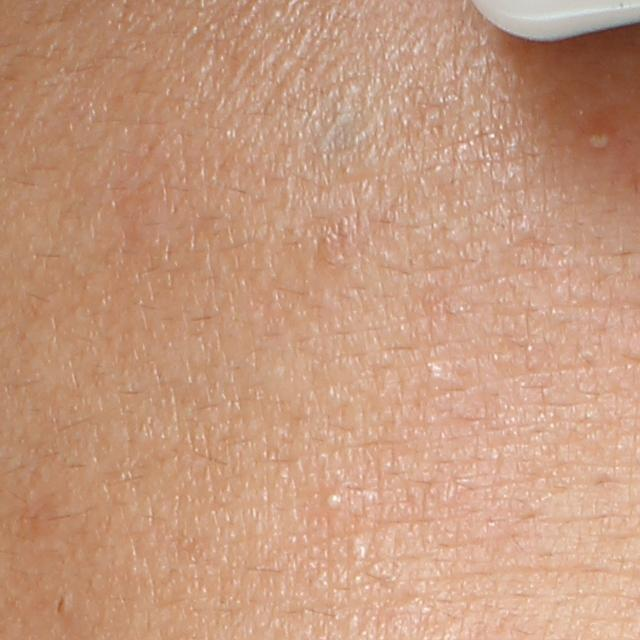comedo: (348, 532, 369, 563), (325, 489, 348, 514)
pustule: (584, 126, 615, 153)
